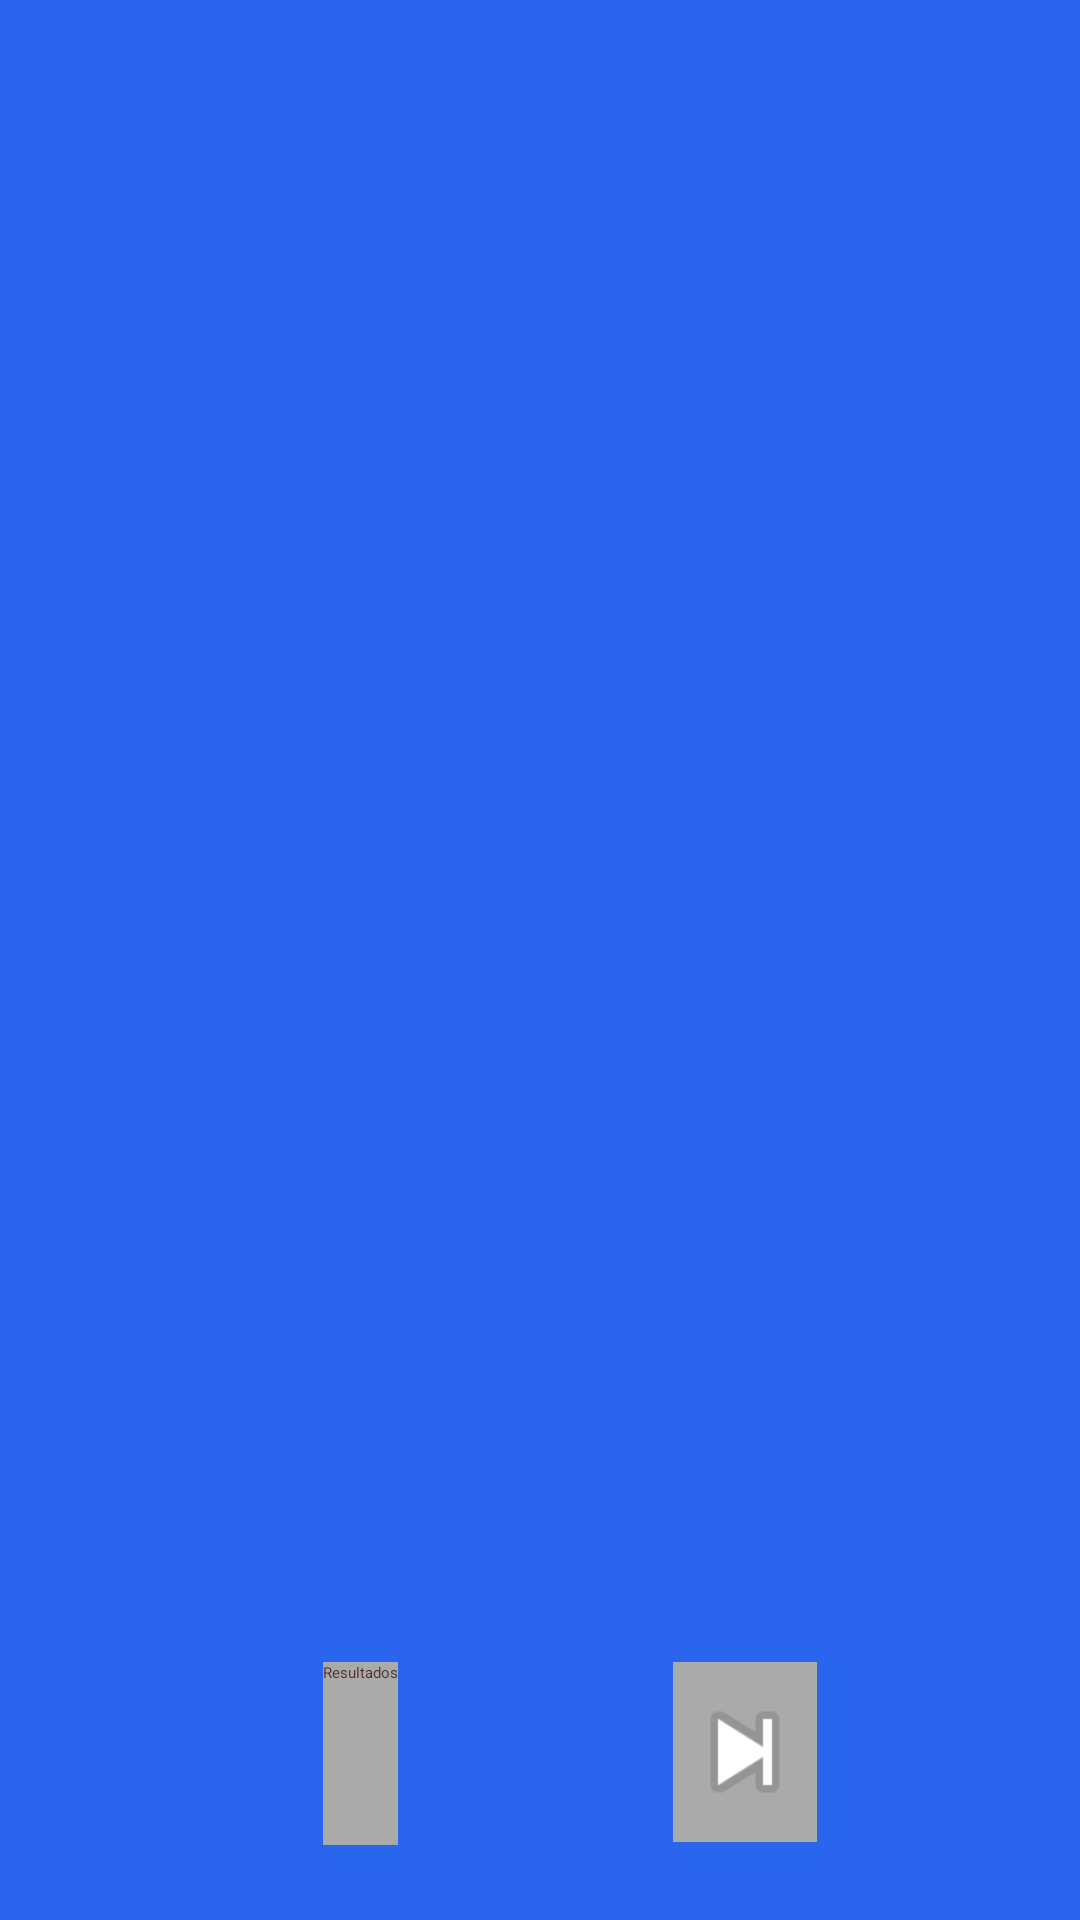

Named icons in this screenshot (1080 × 1920) and their bounding boxes, (x1, y1, x2, y2):
next: (673, 1662, 817, 1842)
